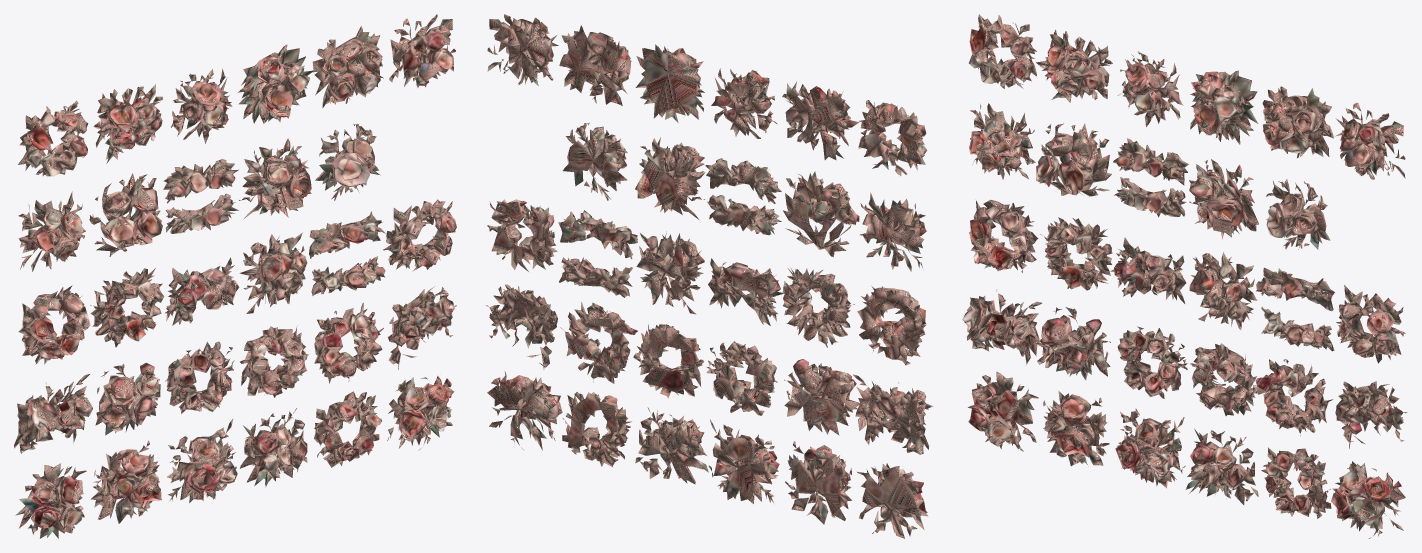
3 views of the same model, side by side, from view 1: azimuth 30°, elevation 25°; view 2: azimuth 150°, elevation 25°; view 3: azimuth 330°, elevation 25° (orthographic).
Visible parts, largest first — view 1: Mesh 31, Mesh 50, Mesh 14, Mesh 11, Mesh 5, Mesh 37, Mesh 10, Mesh 2, Mesh 3, Mesh 29, Mesh 43, Mesh 34 (+19 smaller); view 2: Mesh 11, Mesh 31, Mesh 50, Mesh 16, Mesh 1, Mesh 5, Mesh 10, Mesh 29, Mesh 37, Mesh 14, Mesh 19, Mesh 43 (+19 smaller); view 3: Mesh 11, Mesh 50, Mesh 31, Mesh 5, Mesh 37, Mesh 10, Mesh 2, Mesh 29, Mesh 43, Mesh 19, Mesh 14, Mesh 3 (+19 smaller).
Part boxes in pixels (box(x1,y1,x2,y2)): Mesh 31: box(237, 44, 313, 123); Mesh 50: box(312, 26, 383, 107); Mesh 14: box(91, 440, 161, 523); Mesh 11: box(89, 173, 162, 256); Mesh 5: box(18, 285, 90, 364); Mesh 37: box(239, 138, 311, 219); Mesh 10: box(90, 268, 164, 347); Mesh 2: box(15, 463, 86, 538); Mesh 3: box(18, 100, 88, 176); Mesh 29: box(167, 419, 237, 502); Mesh 43: box(314, 302, 383, 383); Mesh 34: box(240, 325, 308, 397); Mesh 11: box(783, 171, 859, 257); Mesh 31: box(635, 44, 704, 122); Mesh 50: box(559, 25, 631, 105); Mesh 16: box(784, 359, 859, 435); Mesh 1: box(853, 374, 933, 454); Mesh 5: box(857, 286, 926, 365); Mesh 10: box(782, 267, 854, 347); Mesh 29: box(708, 419, 779, 503); Mesh 37: box(635, 137, 705, 219); Mesh 14: box(785, 441, 851, 524); Mesh 19: box(782, 81, 859, 160); Mesh 43: box(560, 301, 637, 383); Mesh 11: box(1036, 123, 1111, 196); Mesh 50: box(1262, 86, 1333, 157); Mesh 31: box(1190, 70, 1258, 144); Mesh 5: box(969, 199, 1038, 272); Mesh 37: box(1189, 159, 1258, 239); Mesh 10: box(1040, 217, 1112, 290); Mesh 2: box(968, 371, 1038, 451); Mesh 29: box(1115, 408, 1185, 488); Mesh 43: box(1255, 359, 1332, 436); Mesh 19: box(1036, 30, 1112, 102); Mesh 14: box(1043, 390, 1109, 466); Mesh 3: box(968, 14, 1036, 88).
Size of the model in its own units: 1.89 by 1.8 by 0.171.
Materials: 31 (31 with a texture image).
